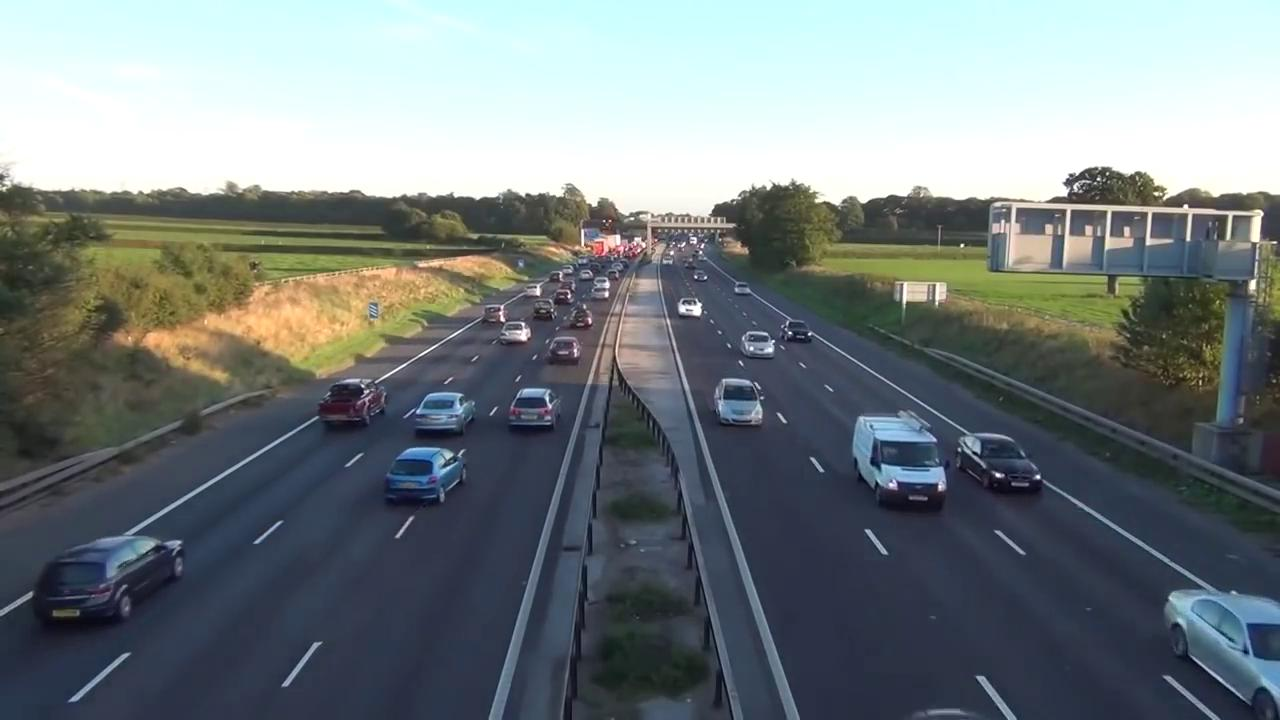car: (1161, 585, 1280, 711), (857, 411, 944, 506), (378, 443, 475, 508), (955, 433, 1041, 495), (406, 393, 478, 435), (318, 381, 386, 423), (715, 375, 767, 425), (509, 390, 557, 429), (543, 336, 581, 365), (739, 331, 776, 359), (501, 322, 534, 345), (784, 323, 816, 343), (482, 303, 509, 324), (572, 305, 595, 329), (677, 297, 702, 319), (532, 298, 558, 319), (589, 287, 610, 301), (524, 284, 544, 297), (734, 285, 751, 296)
